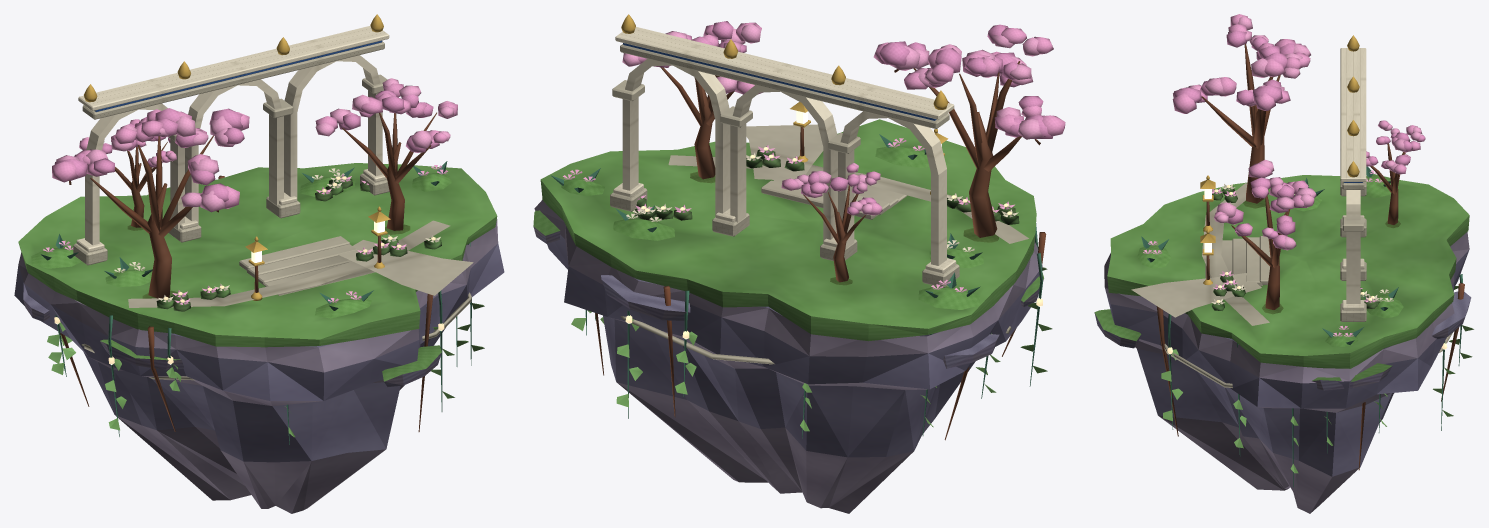
The model's file is sky-garden-final-v1-low.glb.
3 views of the same model, side by side, from view 1: azimuth 30°, elevation 25°; view 2: azimuth 150°, elevation 25°; view 3: azimuth 270°, elevation 25° (orthographic). The views are drawn at different scales.
Parts seen in each view (by area): view 1: sky-garden-final-v1; view 2: sky-garden-final-v1; view 3: sky-garden-final-v1.
Boxes of the visible parts, box(x1,y1,x2,y2) form: sky-garden-final-v1: box(14, 14, 504, 513); sky-garden-final-v1: box(533, 14, 1065, 513); sky-garden-final-v1: box(1094, 14, 1473, 513).
Size of the model in its own units: 13.31 by 12.29 by 10.72.
Materials: 10 (10 with a texture image).
